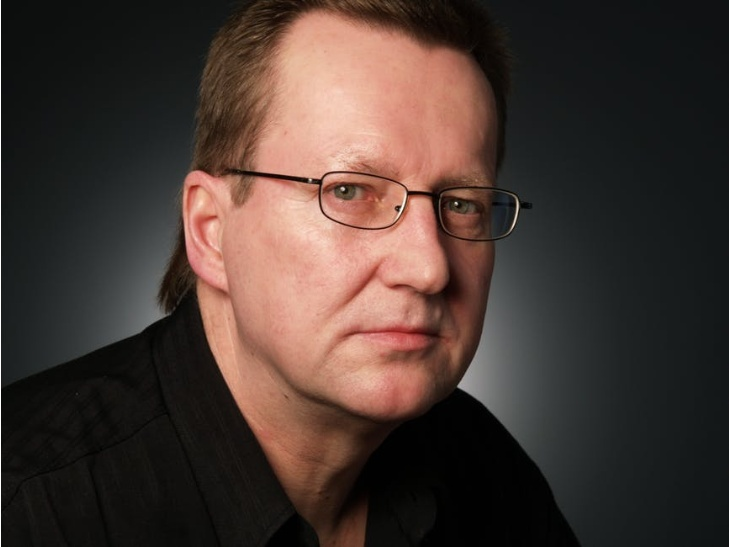face: (270, 27, 500, 425)
